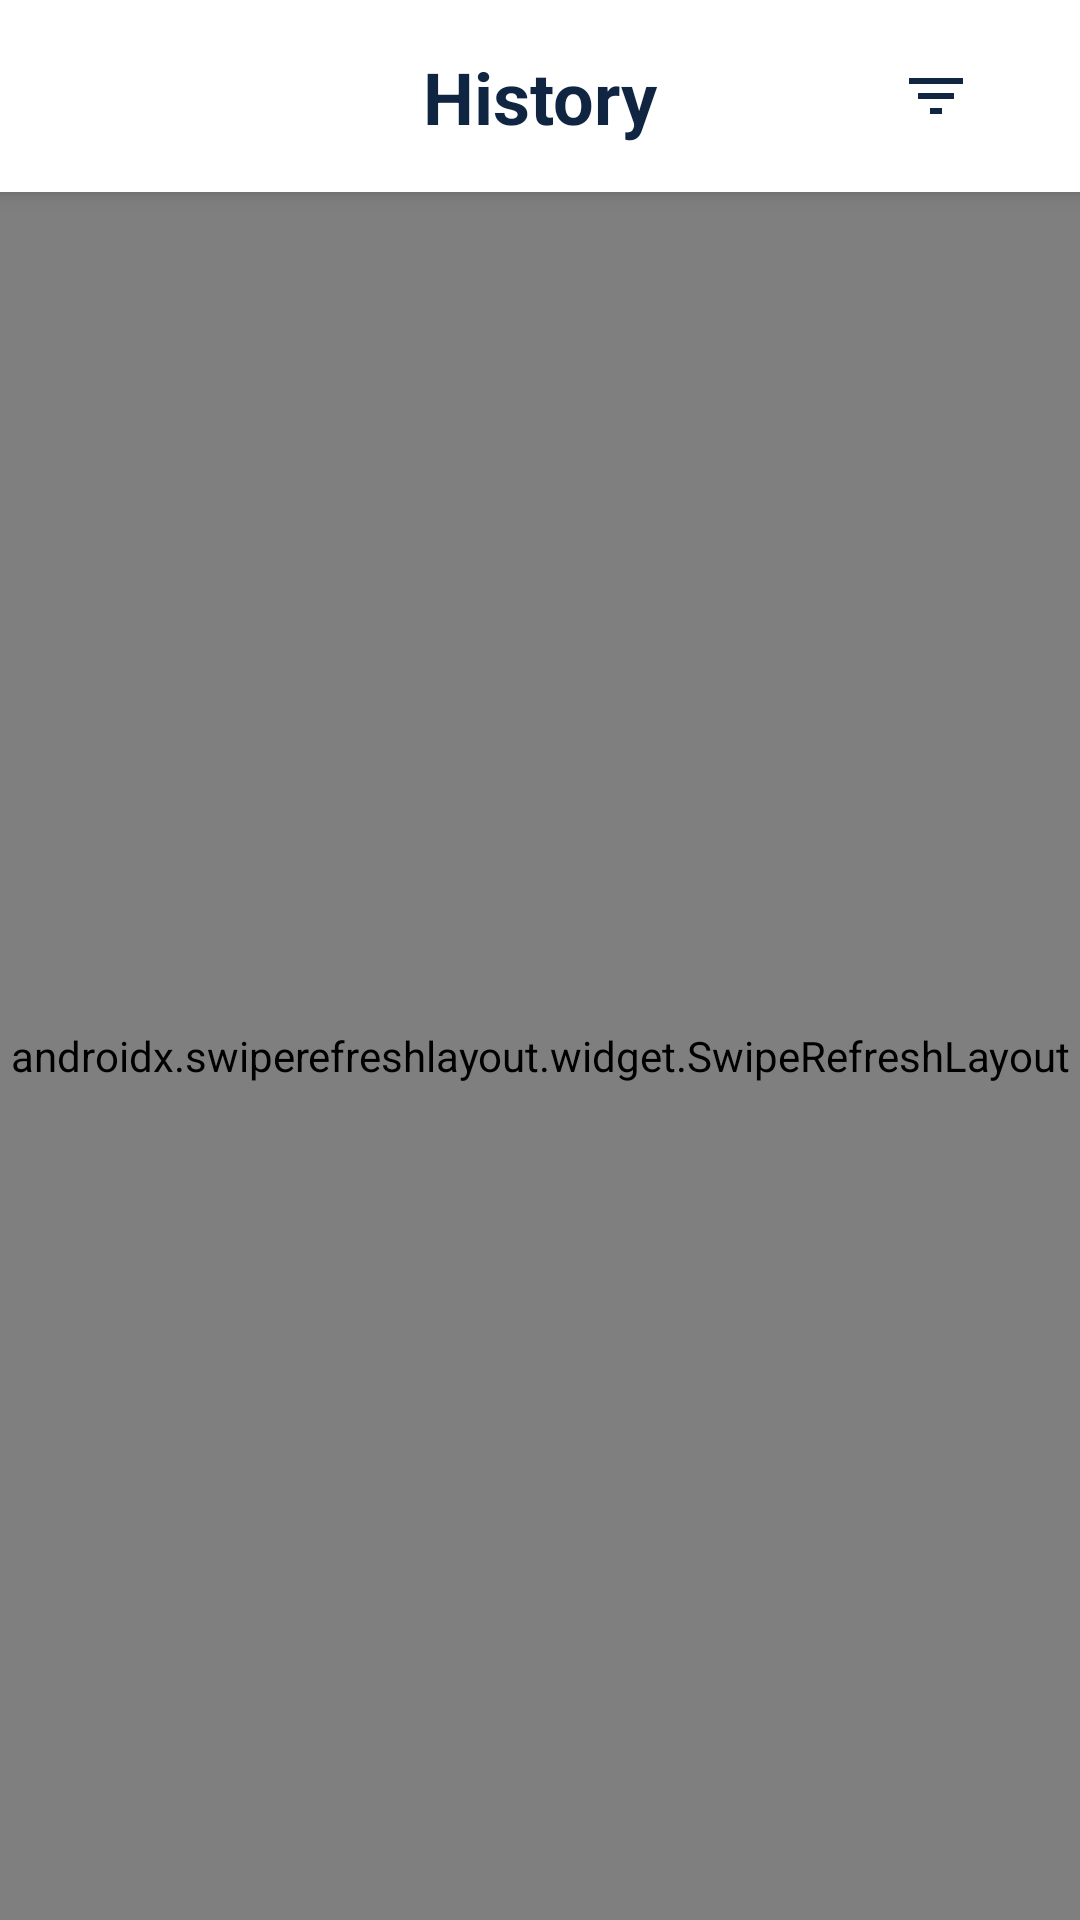

Icon bounding boxes for this 1080px x 1920px phone screenshot, format (x1, y1, x2, y2):
Filter: (909, 78, 963, 114)
